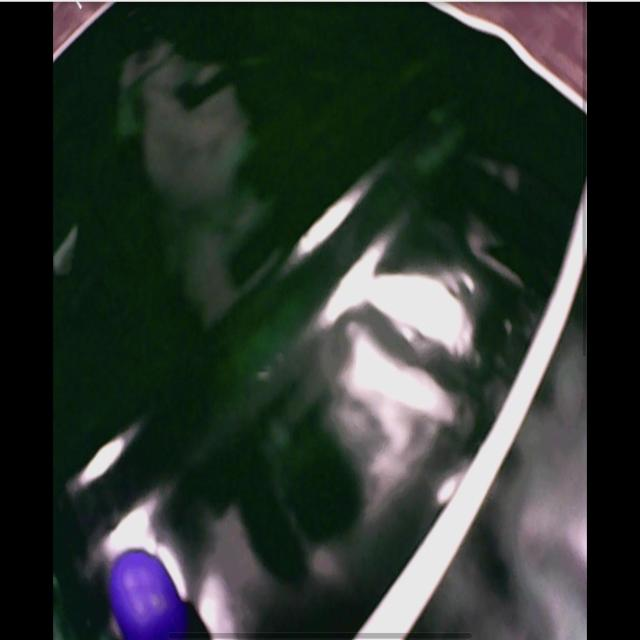ball: (111, 549, 187, 640)
